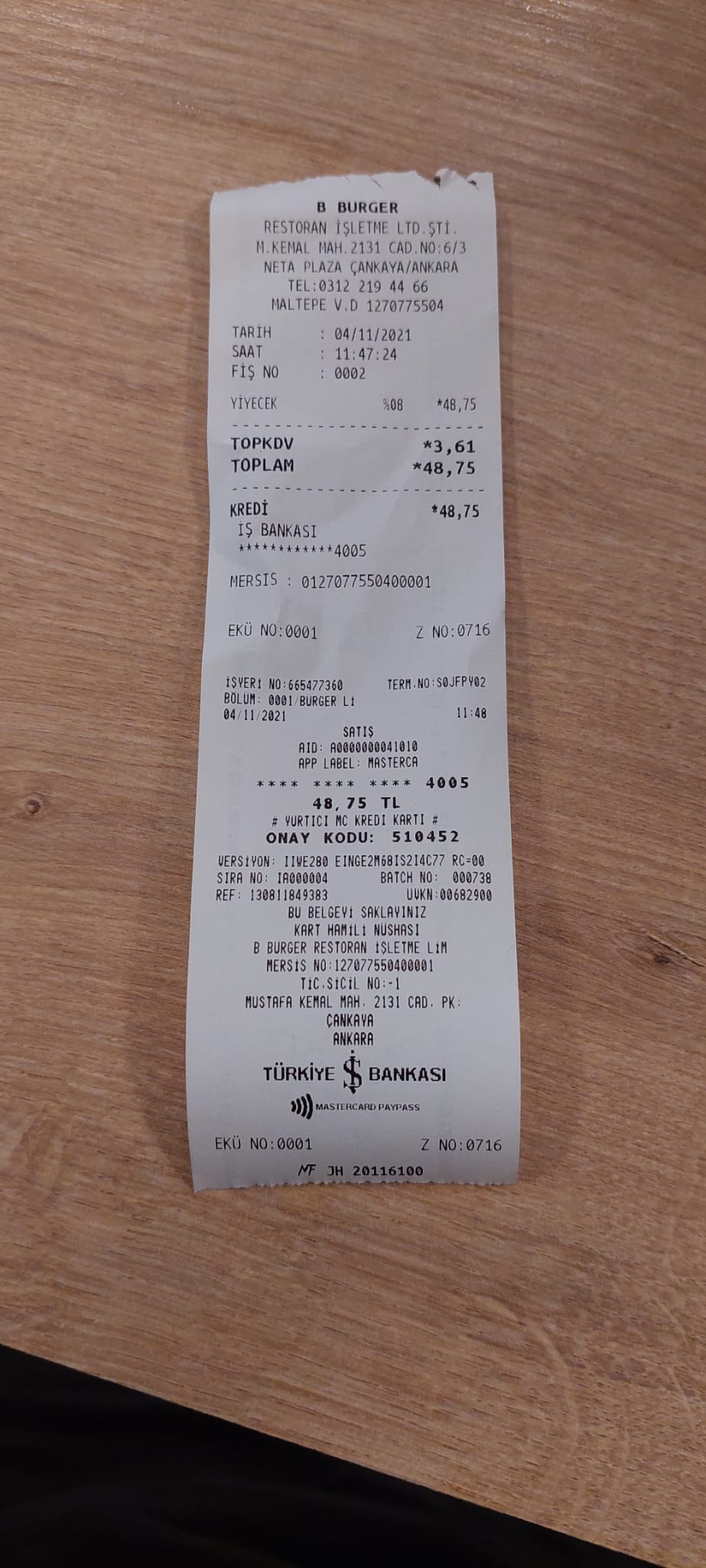date: (419, 456, 484, 480)
price: (330, 320, 419, 348)
workplace: (251, 194, 477, 277)
